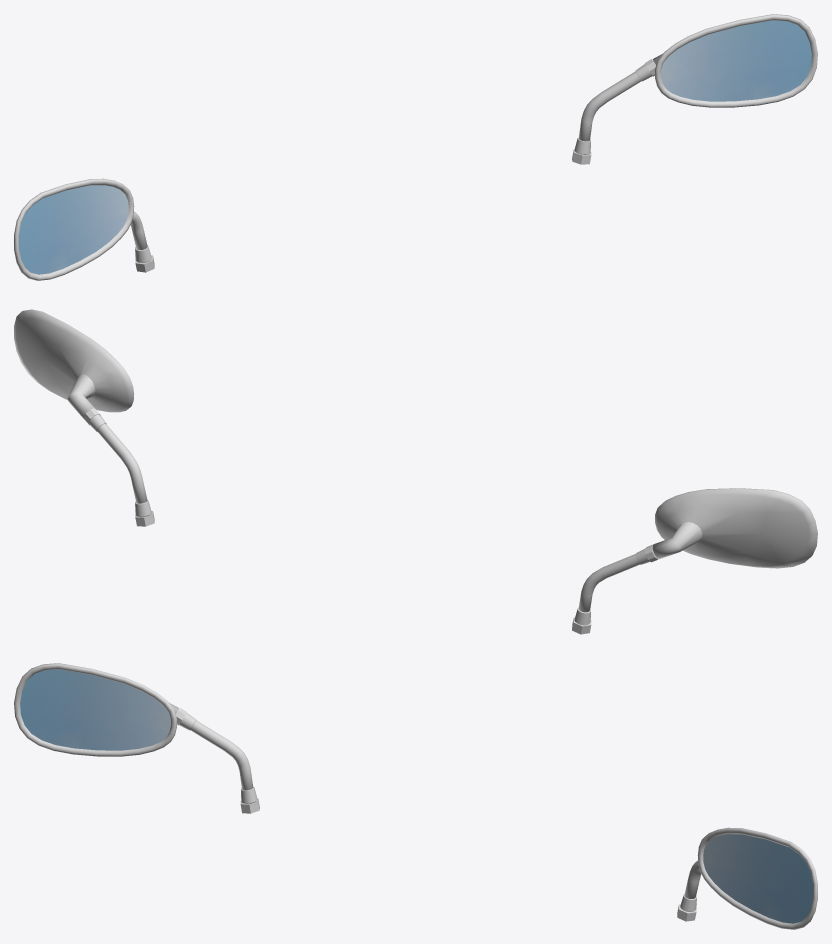
Rendered from Mirrors_STOCK.glb.
The picture shows the model from 3 angles, top to bottom: view 1: azimuth 30°, elevation 25°; view 2: azimuth 150°, elevation 25°; view 3: azimuth 330°, elevation 25°; orthographic projection.
Parts seen in each view (by area): view 1: Mirrors_Stock; view 2: Mirrors_Stock; view 3: Mirrors_Stock.
Boxes of the visible parts, x1,y1,x2,y2 form: Mirrors_Stock: (14, 14, 817, 280); Mirrors_Stock: (14, 309, 817, 634); Mirrors_Stock: (14, 663, 817, 929).
Bounding box in the file's own units: 0.8792 × 0.1511 × 0.1119.
Materials: 2 (1 with a texture image).
